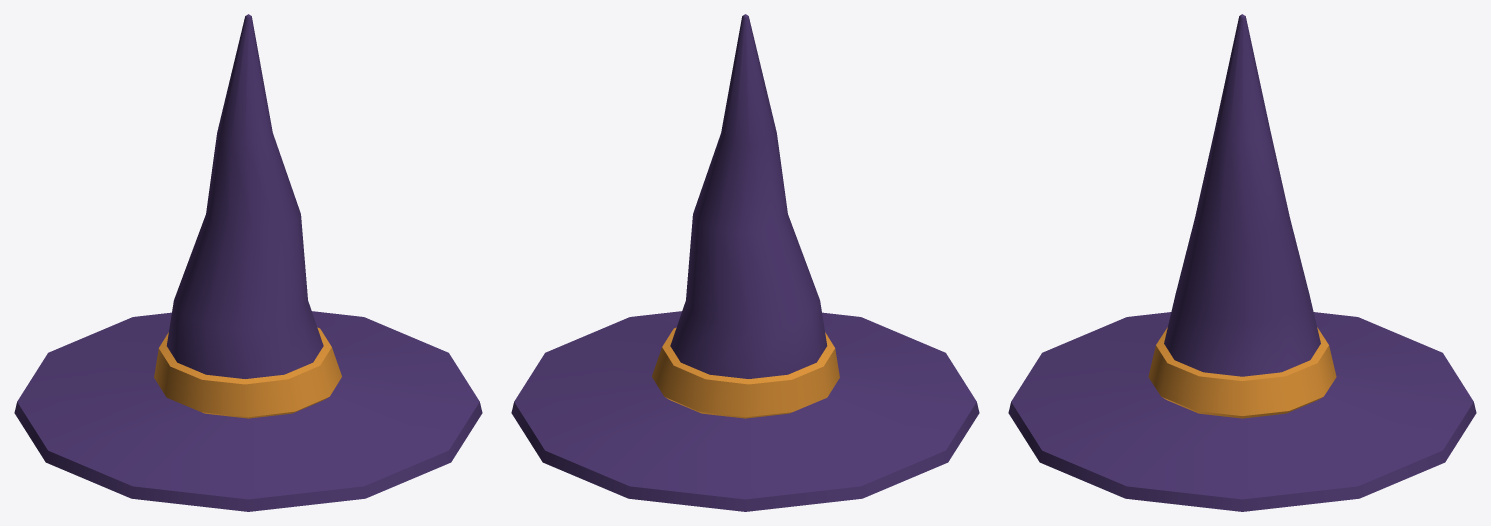
The model's file is Magical_Hat.fbx.
The picture shows the model from 3 angles, left to right: view 1: azimuth 30°, elevation 25°; view 2: azimuth 150°, elevation 25°; view 3: azimuth 270°, elevation 25°; orthographic projection.
Parts seen in each view (by area): view 1: Magical_Hat; view 2: Magical_Hat; view 3: Magical_Hat.
Part boxes in pixels (x1=…): Magical_Hat: x1=14, y1=14, x2=482, y2=511; Magical_Hat: x1=511, y1=14, x2=979, y2=511; Magical_Hat: x1=1008, y1=14, x2=1476, y2=511.
Size of the model in its own units: 32.53 by 30.59 by 32.53.
